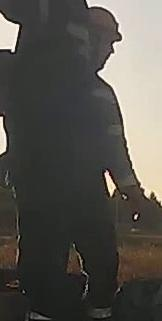helmet: (85, 6, 123, 53)
vest: (63, 76, 125, 192)
